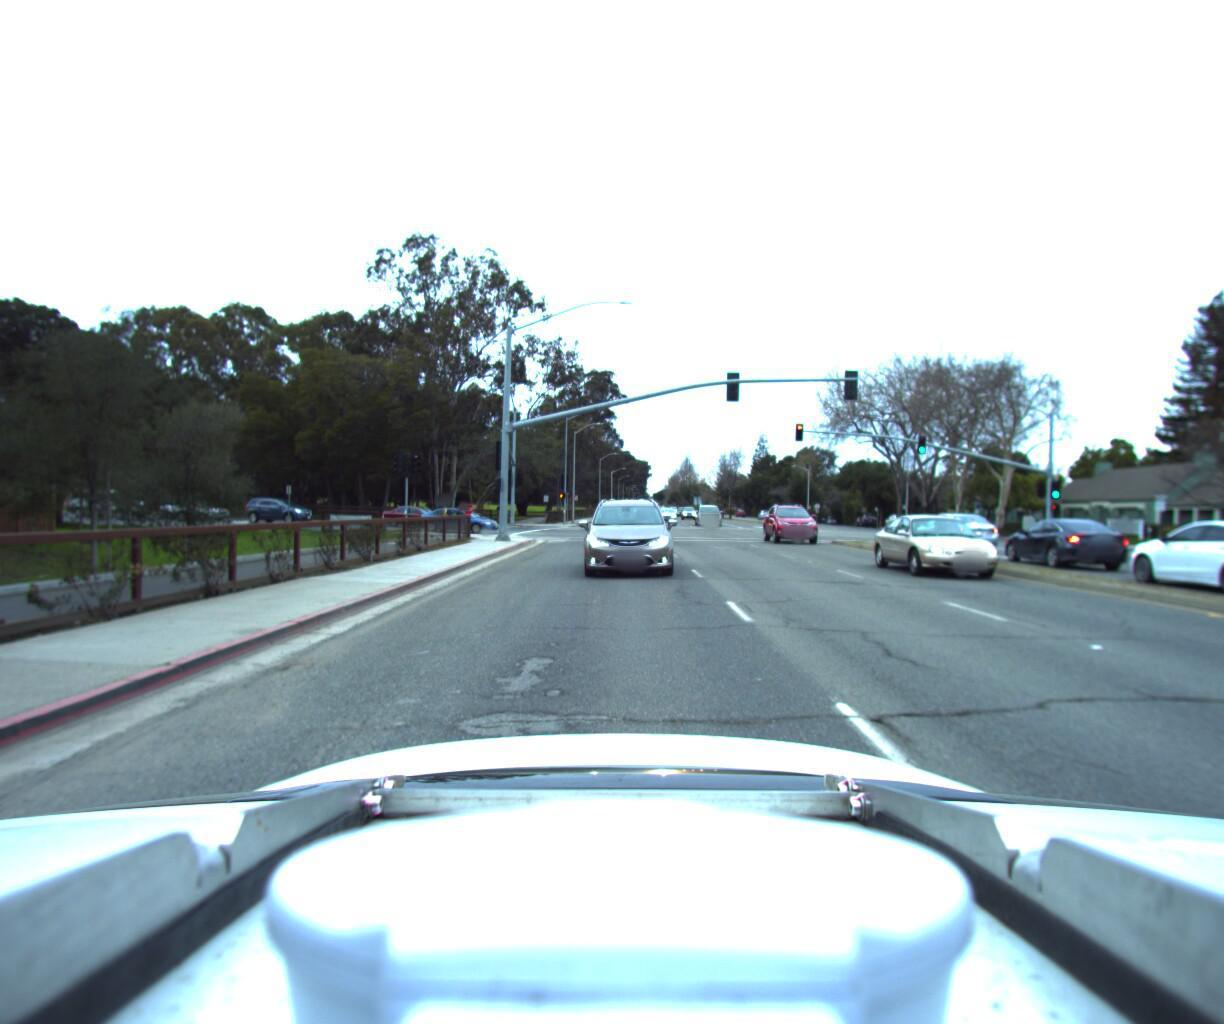car: (886, 508, 1040, 584), (1111, 510, 1224, 597), (577, 488, 672, 574), (991, 509, 1138, 563), (904, 504, 1004, 546), (762, 496, 827, 538), (416, 499, 500, 526), (240, 492, 316, 518), (376, 498, 457, 522), (696, 499, 723, 520), (657, 501, 676, 516)
